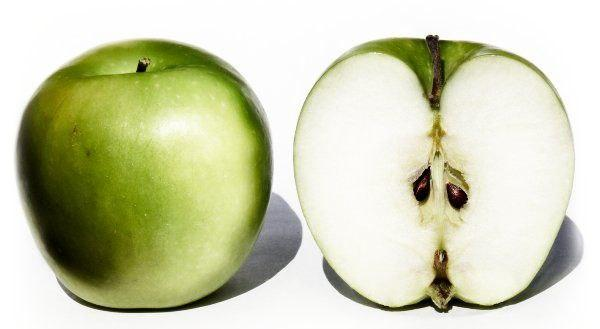Apple: (16, 40, 274, 312)
